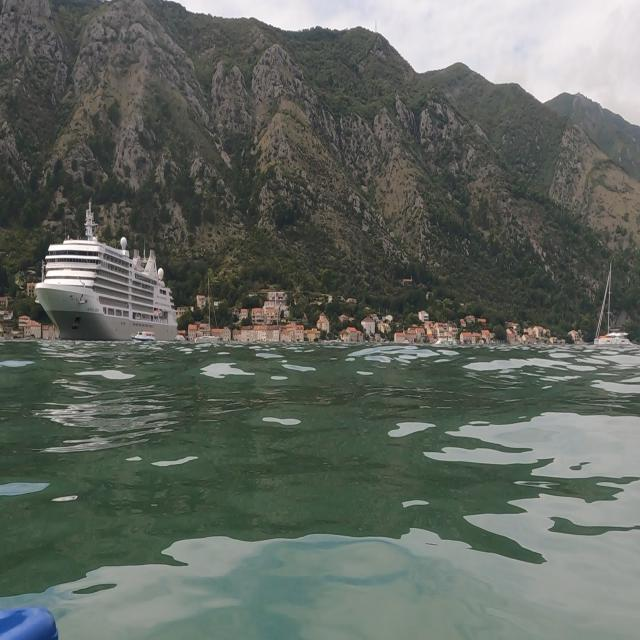boat: (34, 195, 180, 345), (594, 257, 640, 363)
